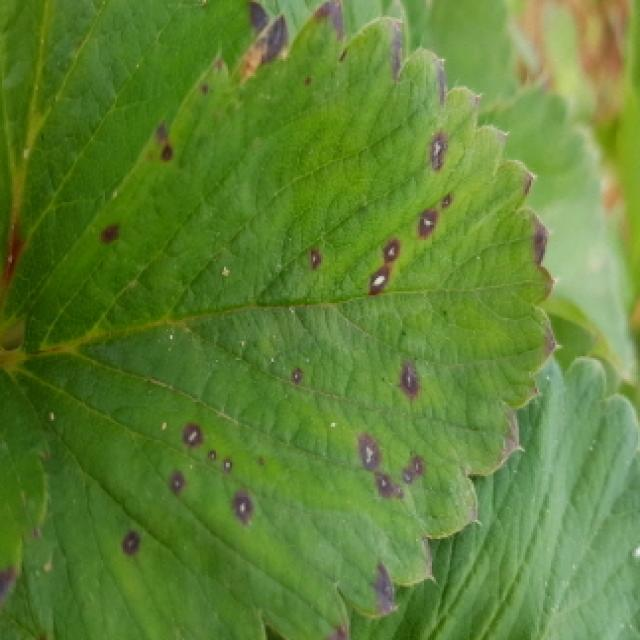Leaf Spot: (1, 0, 562, 640)
